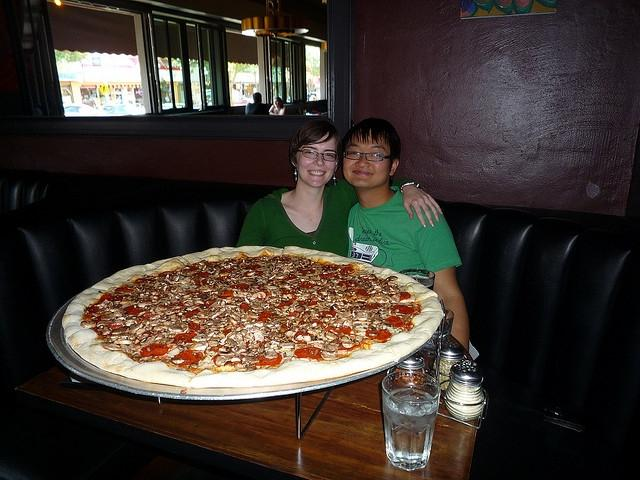mushroom: (212, 306, 228, 320), (332, 317, 353, 327), (129, 322, 144, 334), (188, 341, 208, 350), (306, 340, 324, 349), (192, 332, 208, 342), (165, 274, 179, 285), (338, 308, 352, 318), (253, 330, 264, 342), (80, 320, 96, 328), (140, 337, 154, 345), (288, 318, 301, 326), (391, 292, 401, 302), (232, 312, 242, 322), (168, 326, 184, 332), (183, 300, 194, 308), (275, 348, 292, 353), (154, 324, 168, 330), (200, 285, 212, 292), (112, 328, 126, 334), (120, 344, 130, 352), (187, 270, 200, 276), (371, 294, 384, 300), (244, 278, 258, 283), (218, 352, 235, 356), (236, 348, 247, 354), (219, 312, 232, 317), (105, 301, 114, 308), (141, 286, 151, 292), (168, 305, 180, 310), (178, 291, 190, 296), (306, 316, 314, 323), (200, 309, 211, 314), (252, 304, 261, 310), (346, 292, 356, 297), (326, 314, 334, 320), (317, 296, 325, 302), (266, 322, 274, 328), (304, 299, 312, 305), (106, 336, 112, 343), (320, 318, 330, 322), (352, 324, 362, 328), (180, 320, 188, 325), (300, 276, 310, 280), (236, 334, 242, 340), (123, 295, 132, 299), (140, 319, 147, 324), (183, 328, 190, 333), (262, 274, 270, 278), (240, 309, 246, 314), (381, 329, 389, 332), (146, 289, 154, 292), (208, 269, 215, 272), (269, 308, 274, 312), (150, 310, 155, 314), (340, 278, 346, 281), (244, 263, 252, 265), (272, 262, 276, 266), (234, 298, 239, 301), (374, 313, 381, 315), (310, 279, 317, 281), (237, 332, 240, 336), (284, 270, 290, 272), (342, 284, 346, 287), (312, 299, 318, 301), (236, 344, 242, 346), (214, 265, 218, 268), (225, 263, 228, 266)
